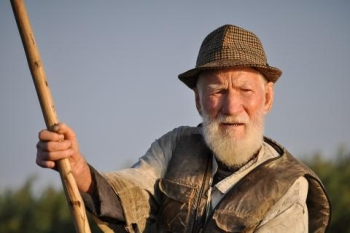hand: (35, 122, 80, 175)
